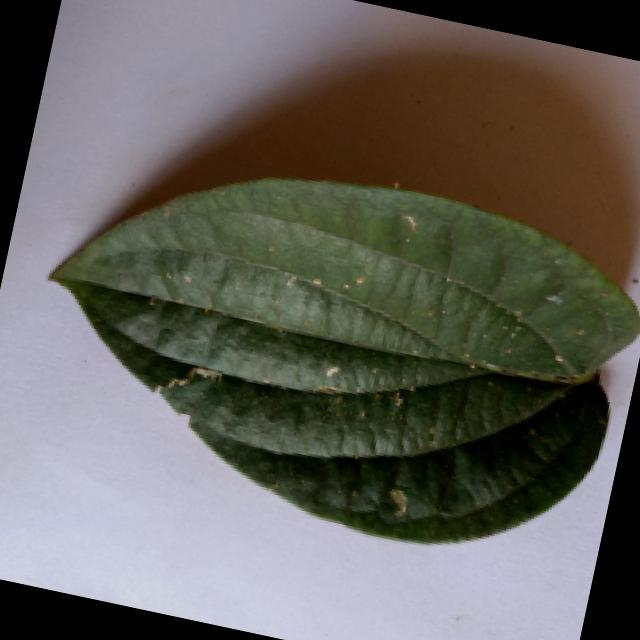pollu-disease: (7, 122, 640, 577)
